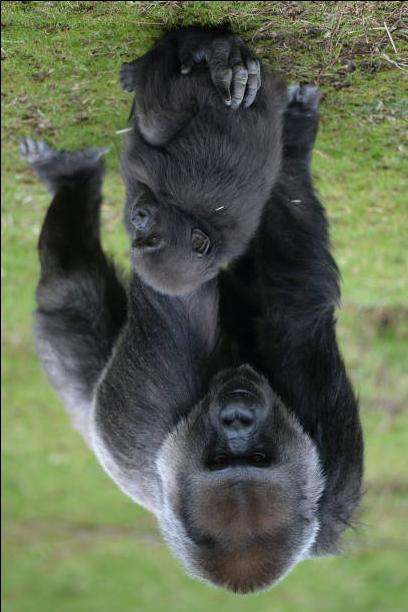gorille_Autres: (22, 17, 396, 612)
